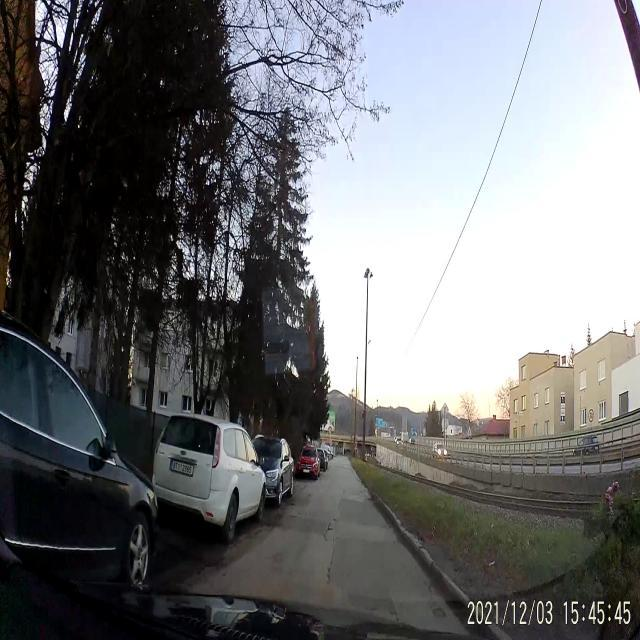Pothole: (326, 519, 334, 546)
